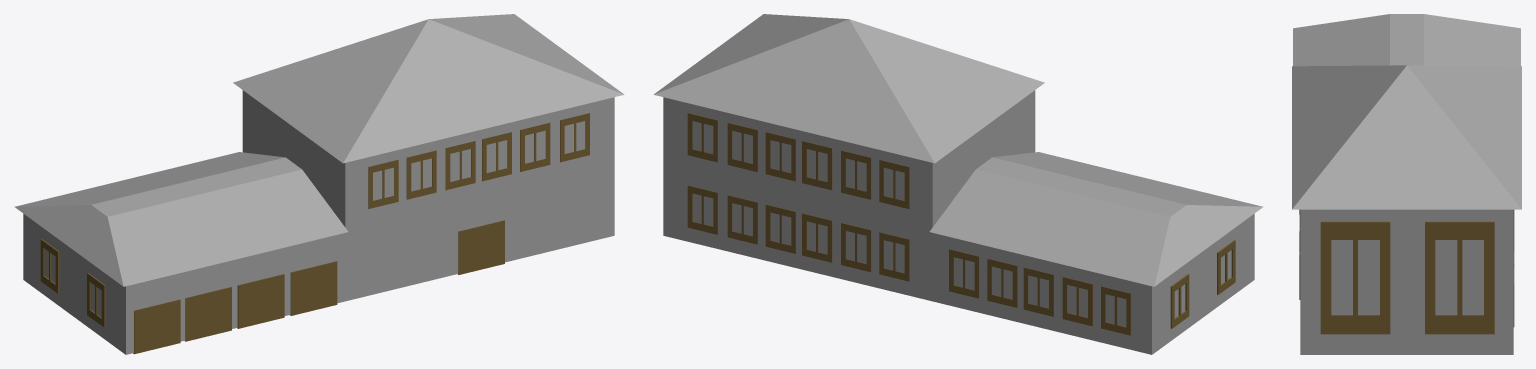
The model's file is FireDepartment.fbx.
3 views of the same model, side by side, from view 1: azimuth 30°, elevation 25°; view 2: azimuth 150°, elevation 25°; view 3: azimuth 270°, elevation 25° (orthographic). The views are drawn at different scales.
Parts seen in each view (by area): view 1: FireDepartment; view 2: FireDepartment; view 3: FireDepartment.
Boxes of the visible parts, x1,y1,x2,y2 form: FireDepartment: [14, 14, 624, 354]; FireDepartment: [653, 14, 1263, 354]; FireDepartment: [1292, 14, 1521, 354].
Size of the model in its own units: 2.56 by 1.04 by 0.9768.
